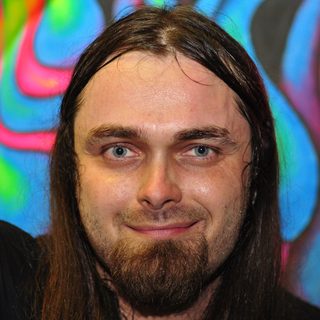eye: (167, 138, 227, 169), (93, 138, 147, 167)
